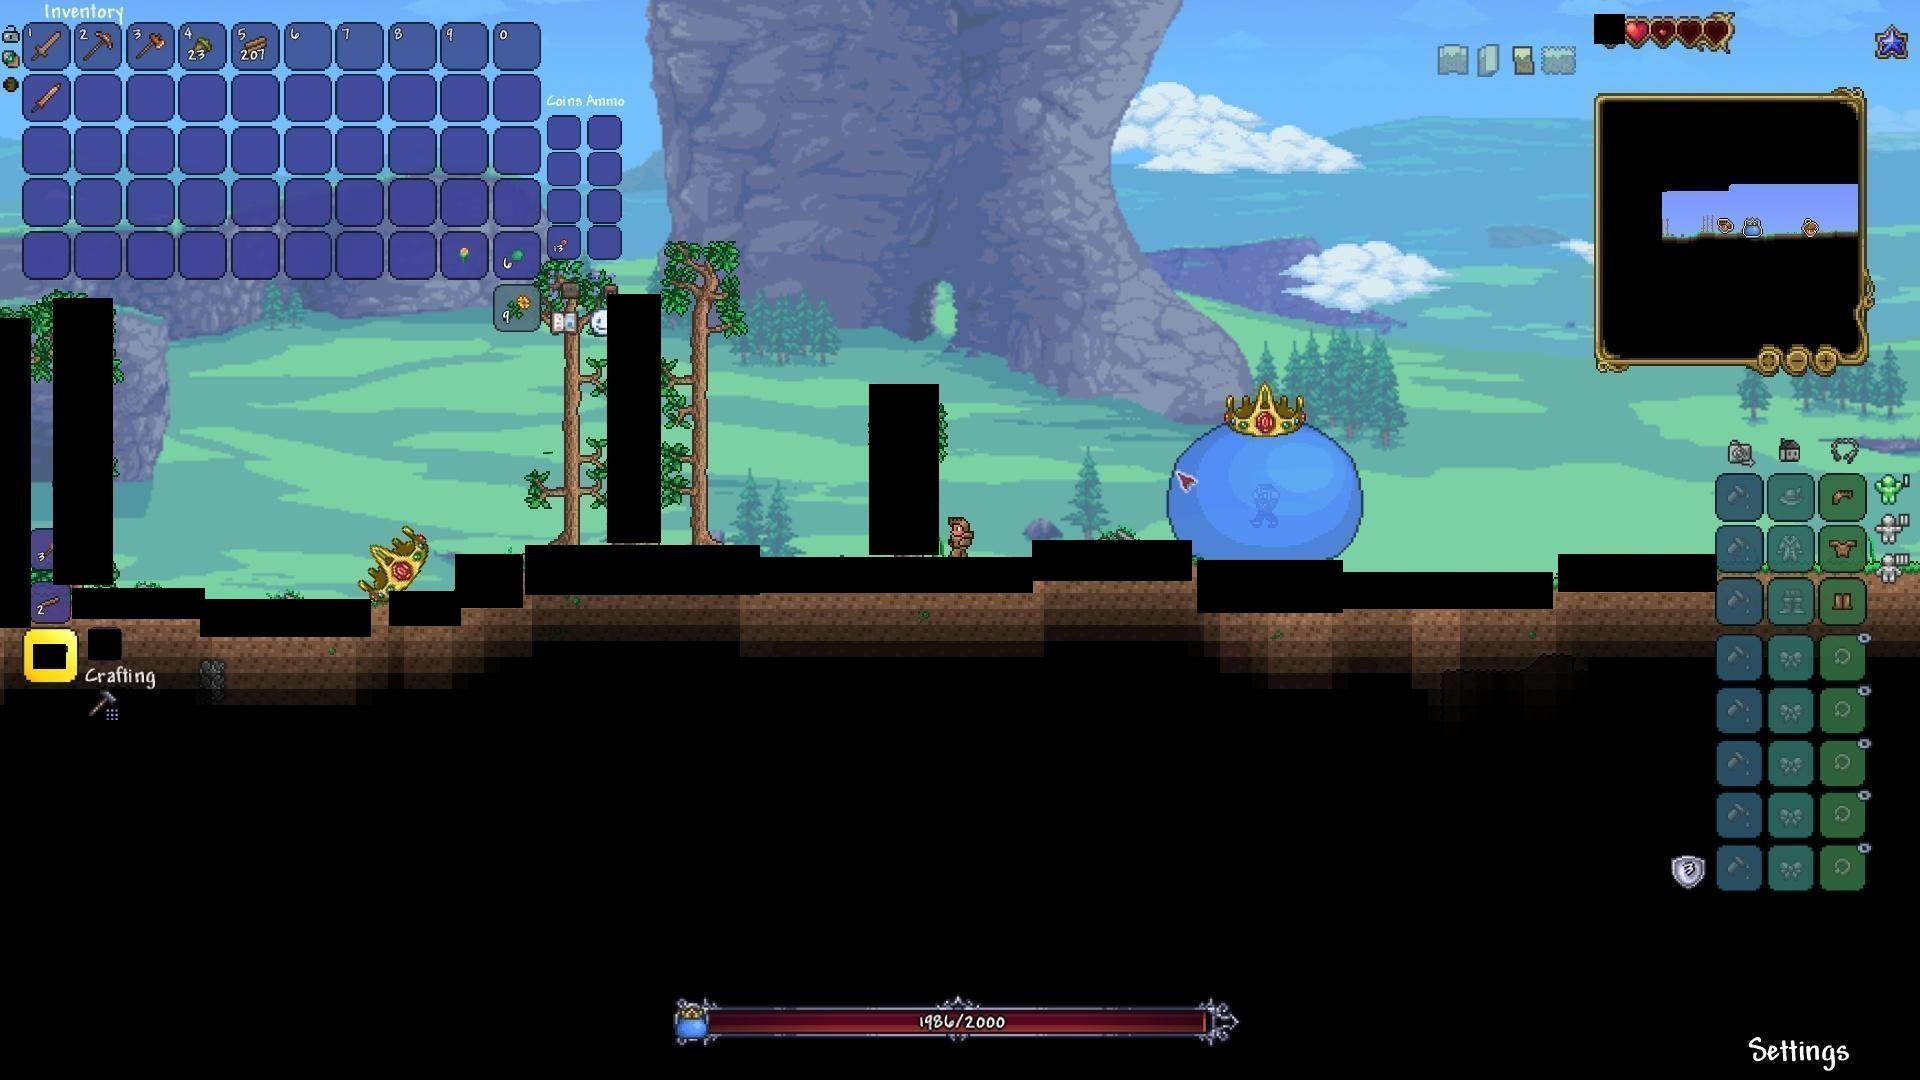breastplate: (1830, 537, 1859, 558)
heart: (1626, 17, 1651, 45)
helmet: (1829, 485, 1857, 509)
legs: (1832, 588, 1857, 615)
tree: (671, 229, 746, 543), (539, 272, 604, 543)
wood: (243, 33, 269, 59)
